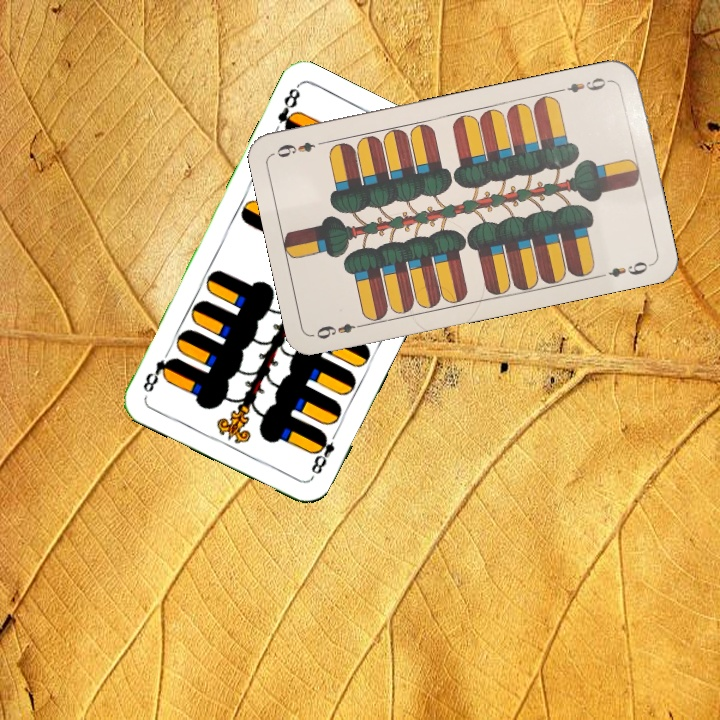E8: (307, 426, 341, 481), (273, 82, 303, 137)
E9: (555, 73, 614, 96), (312, 319, 369, 342)
